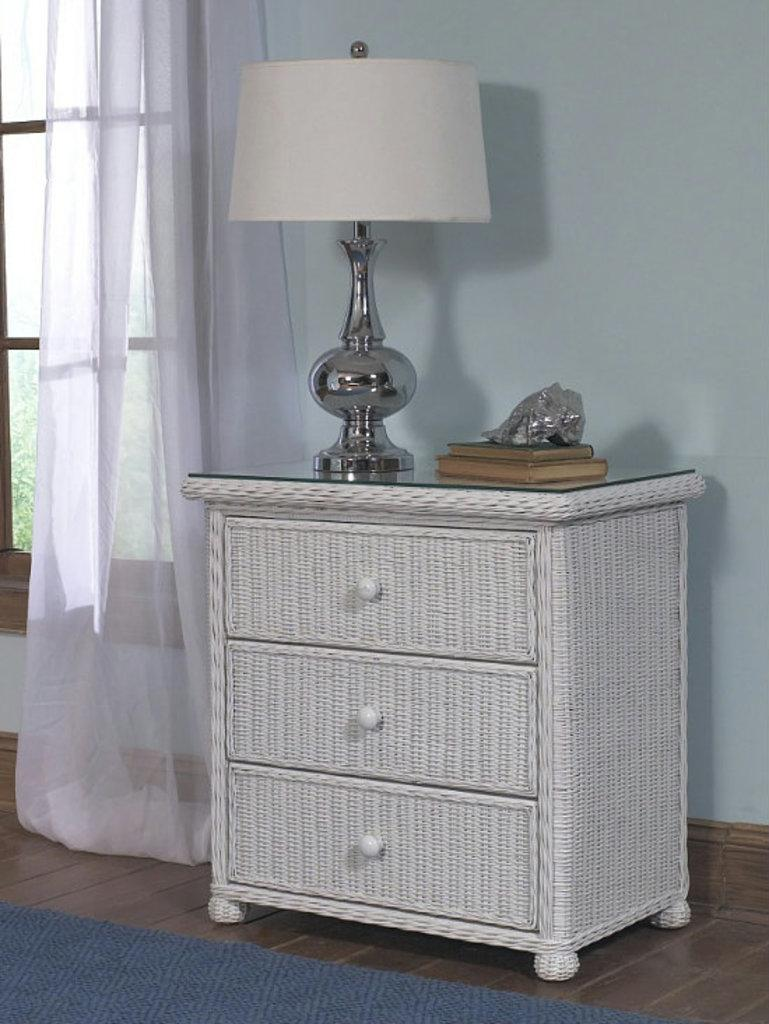cabinet_door: (226, 764, 538, 930), (225, 643, 537, 795), (225, 534, 534, 652)
handle: (360, 692, 383, 738), (353, 573, 381, 603), (360, 838, 381, 864)
